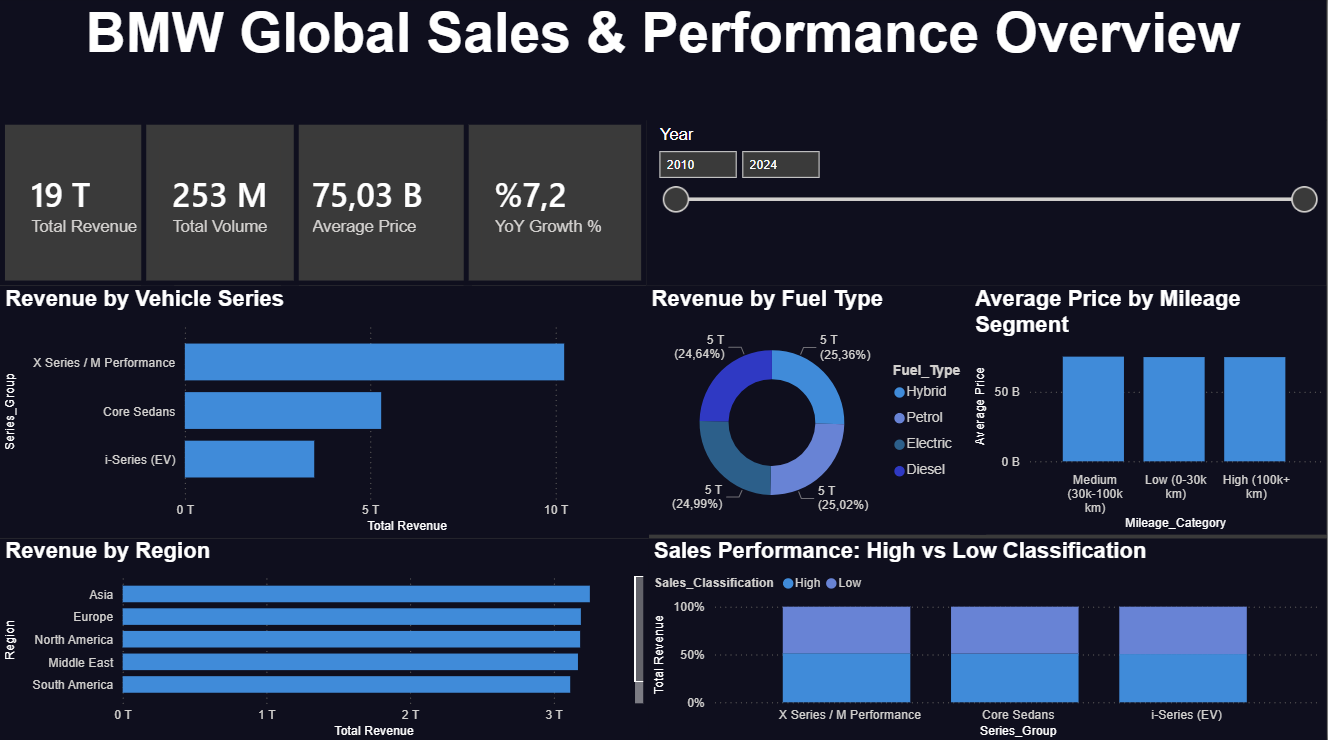

What the dashboard file says about the page in this screenshot:
{"tool":"powerbi","page":{"name":"1. sayfa","canvas":[1280,720],"ordinal":0},"visuals":[{"type":"cardVisual","fields":{"Data":["Sales.Total Revenue"]},"box":[0,120,168,160],"z":0},{"type":"cardVisual","fields":{"Data":["Sales.Average Price"]},"box":[272,120,184,160],"z":1000},{"type":"cardVisual","fields":{"Data":["Sales.Total Volume"]},"box":[136,120,152,160],"z":2000},{"type":"cardVisual","fields":{"Data":["Sales.YoY Growth %"]},"box":[448,120,176,160],"z":3000},{"type":"slicer","fields":{"Values":["Sales.Year"]},"box":[624,120,656,160],"z":4000},{"type":"donutChart","title":"Revenue by Fuel Type","fields":{"Category":["Sales.Fuel_Type"],"Y":["Sales.Total Revenue"]},"box":[624,280,328,240],"z":5000},{"type":"barChart","title":"Revenue by Region","fields":{"Category":["Sales.Region"],"Y":["Sales.Total Revenue"]},"box":[0,523.4,626.1,196.9],"z":6000},{"type":"clusteredColumnChart","title":"Average Price by Mileage Segment","fields":{"Category":["Sales.Mileage_Category"],"Y":["Sales.Average Price"]},"box":[936,280,344,240],"z":7000},{"type":"clusteredBarChart","title":"Revenue by Vehicle Series","fields":{"Category":["Sales.Series_Group"],"Y":["Sales.Total Revenue"]},"box":[0,280,626.1,243.3],"z":8000},{"type":"hundredPercentStackedColumnChart","title":"Sales Performance: High vs Low Classification","fields":{"Category":["Sales.Series_Group"],"Y":["Sales.Total Revenue"],"Series":["Sales.Sales_Classification"]},"box":[626.1,523.4,654.2,196.9],"z":9000},{"type":"textbox","box":[0,0,1280,120],"z":10000}]}

Visuals, with their boxes in screenshot pixels (x1, y1, x2, y2), scaled from the page's 1280x720 canvas onto the 1328x740 screenshot:
cardVisual - Sales.Total Revenue: bbox(0, 123, 174, 288)
cardVisual - Sales.Average Price: bbox(282, 123, 473, 288)
cardVisual - Sales.Total Volume: bbox(141, 123, 299, 288)
cardVisual - Sales.YoY Growth %: bbox(465, 123, 647, 288)
slicer - Sales.Year: bbox(647, 123, 1327, 288)
"Revenue by Fuel Type" donutChart: bbox(647, 288, 988, 534)
"Revenue by Region" barChart: bbox(0, 538, 650, 739)
"Average Price by Mileage Segment" clusteredColumnChart: bbox(971, 288, 1327, 534)
"Revenue by Vehicle Series" clusteredBarChart: bbox(0, 288, 650, 538)
"Sales Performance: High vs Low Classification" hundredPercentStackedColumnChart: bbox(650, 538, 1327, 739)
textbox: bbox(0, 0, 1327, 123)
